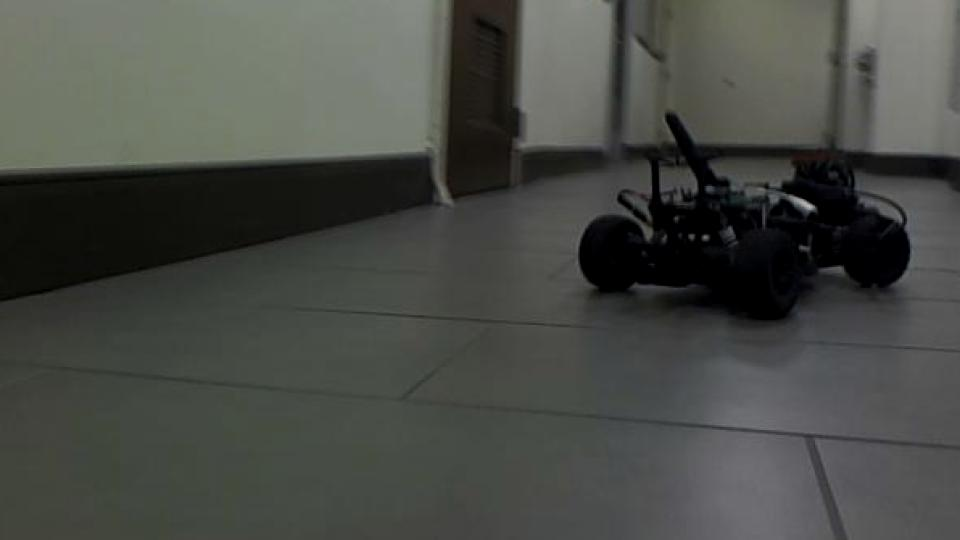car: (577, 107, 915, 322)
